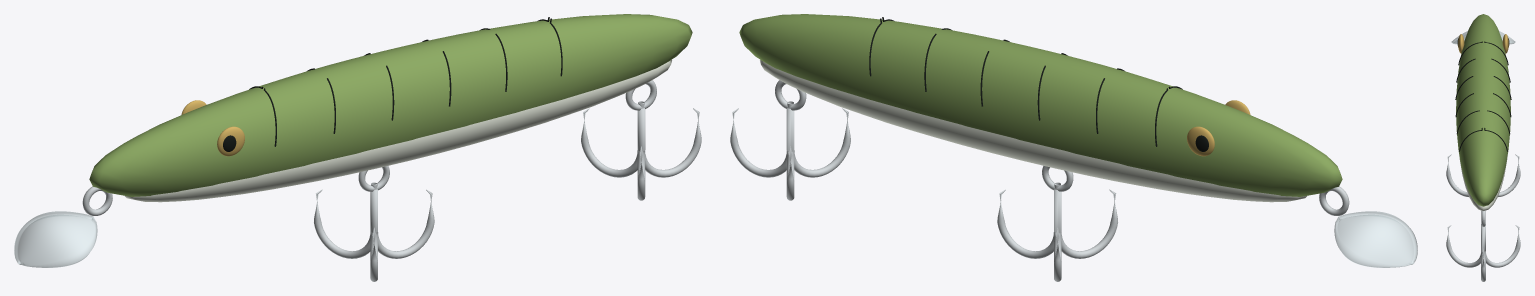
The model's file is jerkbait.glb.
The picture shows the model from 3 angles, left to right: view 1: azimuth 30°, elevation 25°; view 2: azimuth 150°, elevation 25°; view 3: azimuth 270°, elevation 25°; orthographic projection. The views are drawn at different scales.
Visible parts, largest first — view 1: jerkbait specimen.003; view 2: jerkbait specimen.003; view 3: jerkbait specimen.003.
Part boxes in pixels (box(x1,y1,x2,y2)): jerkbait specimen.003: box(14, 14, 701, 281); jerkbait specimen.003: box(730, 14, 1417, 281); jerkbait specimen.003: box(1446, 14, 1520, 281).
Bounding box in the file's own units: 2.04 × 0.5909 × 0.3125.
